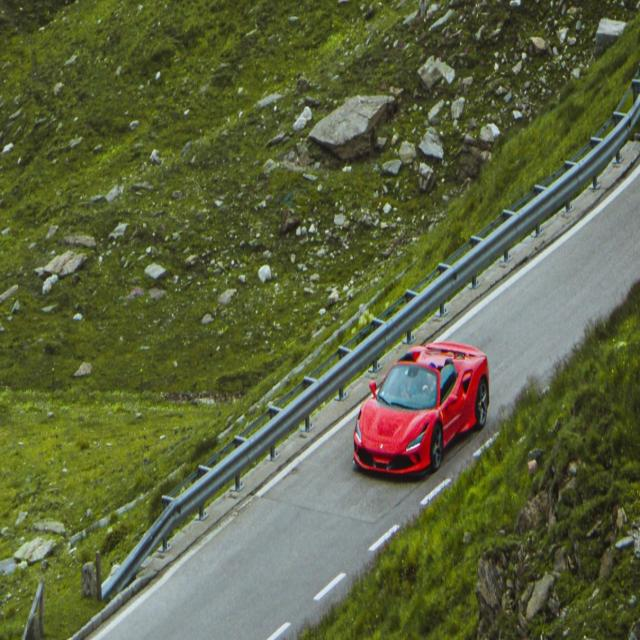car: (353, 340, 491, 480)
